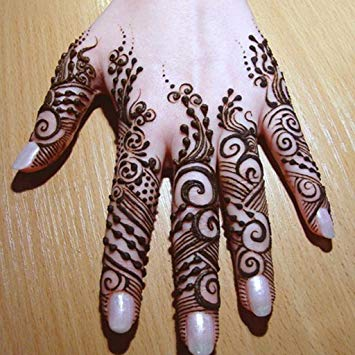finger: (261, 85, 355, 247), (95, 146, 165, 334), (218, 146, 283, 321), (170, 165, 218, 350)
